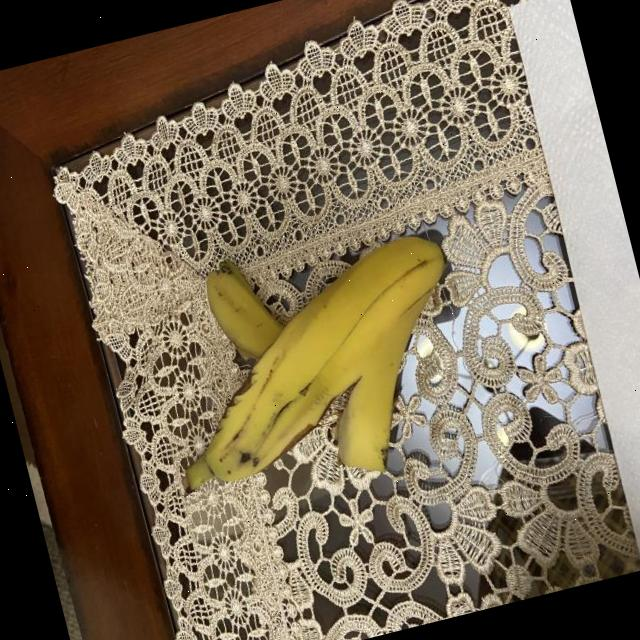banana-peel: (133, 206, 491, 518)
